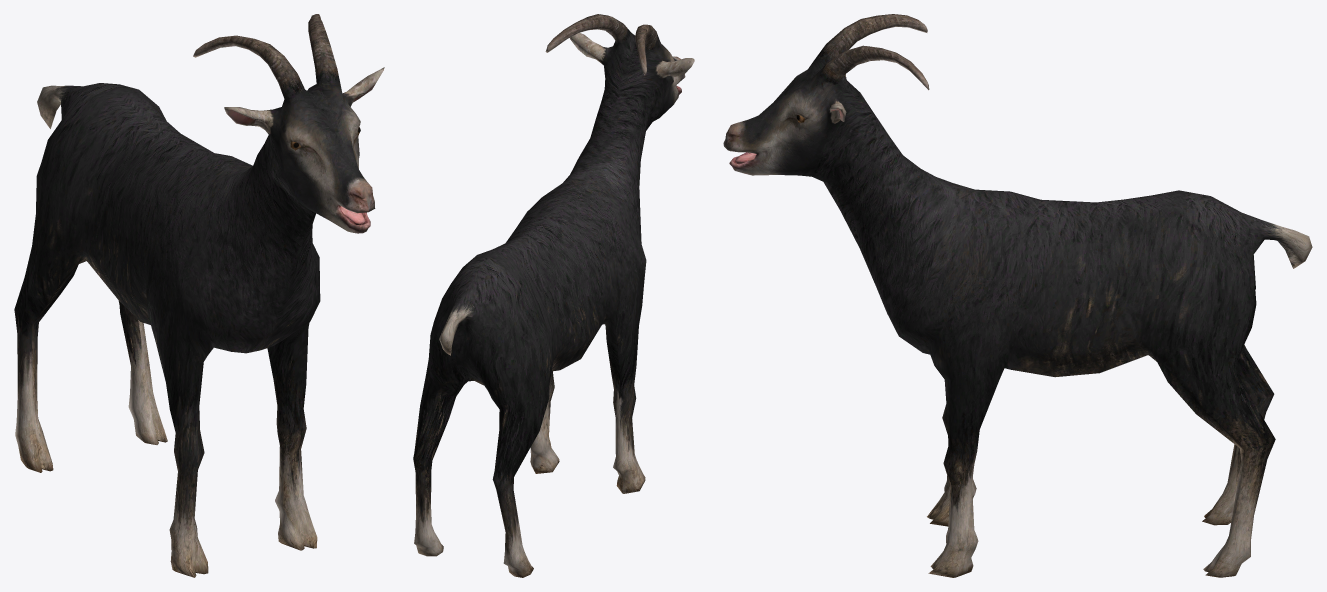
The model's file is Echki.fbx.
3 renders of one model, left to right at view 1: azimuth 30°, elevation 25°; view 2: azimuth 150°, elevation 25°; view 3: azimuth 270°, elevation 25°, orthographic. The views are drawn at different scales.
Parts seen in each view (by area): view 1: козел-3_1; view 2: козел-3_1; view 3: козел-3_1.
Part boxes in pixels (x1,y1,x2,y2): козел-3_1: (14, 14, 384, 577); козел-3_1: (413, 14, 694, 577); козел-3_1: (723, 14, 1312, 577).
Size of the model in its own units: 1308 by 4287 by 4425.
1 material, 1 textured.
